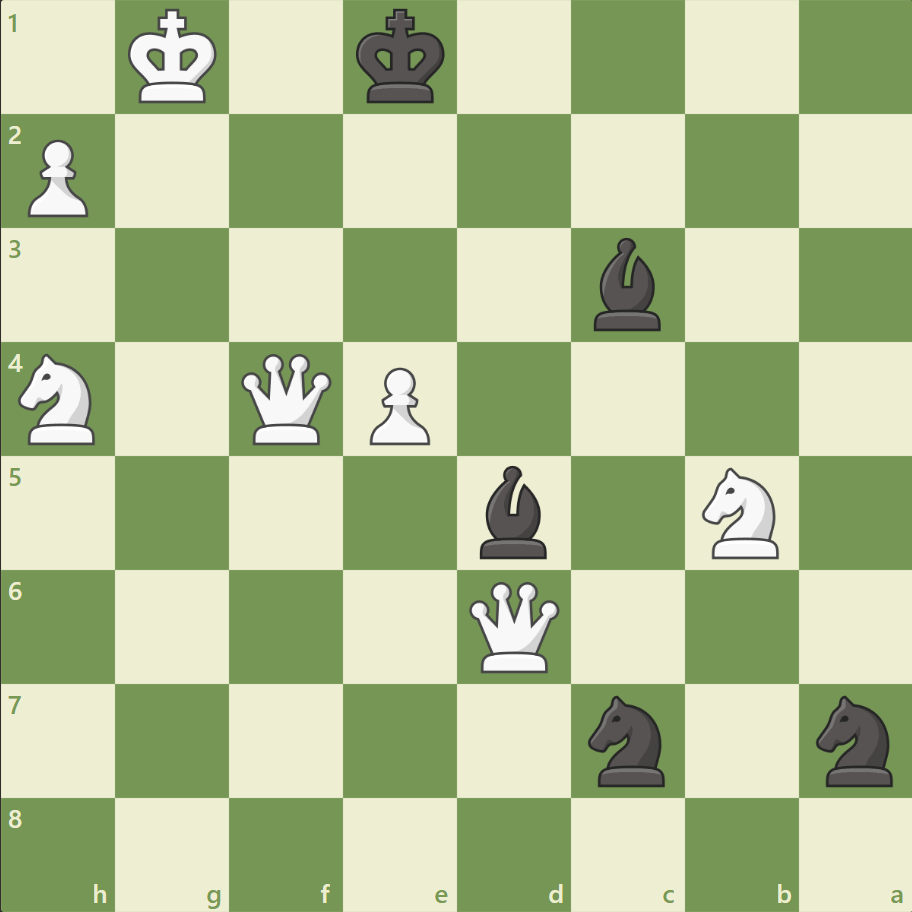K: (124, 4, 224, 112)
N: (692, 461, 789, 564), (11, 348, 108, 450)
P: (20, 132, 95, 223), (361, 359, 435, 450)
Q: (464, 576, 563, 676), (237, 349, 336, 449)
b: (471, 460, 555, 563), (585, 233, 669, 336)
k: (351, 4, 451, 112)
n: (806, 688, 903, 791), (579, 688, 676, 791)
